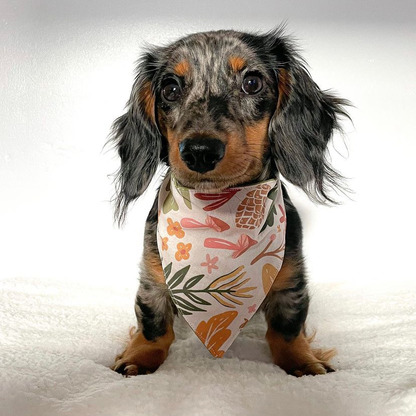dachshund: (80, 36, 370, 379)
